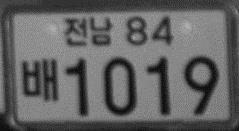0: (103, 55, 137, 116)
1: (64, 55, 89, 117), (146, 55, 171, 117)
4: (150, 15, 174, 47)
8: (124, 14, 148, 45)
9: (182, 54, 220, 115)
배: (20, 57, 59, 102)
전남_H: (62, 14, 114, 47)
